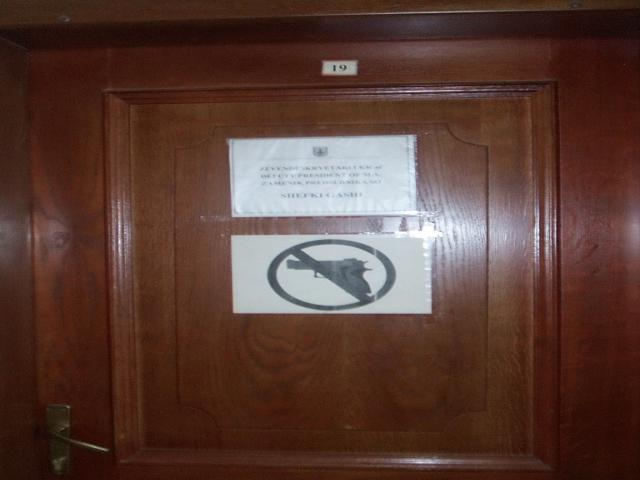Door-handle: (40, 402, 111, 480)
